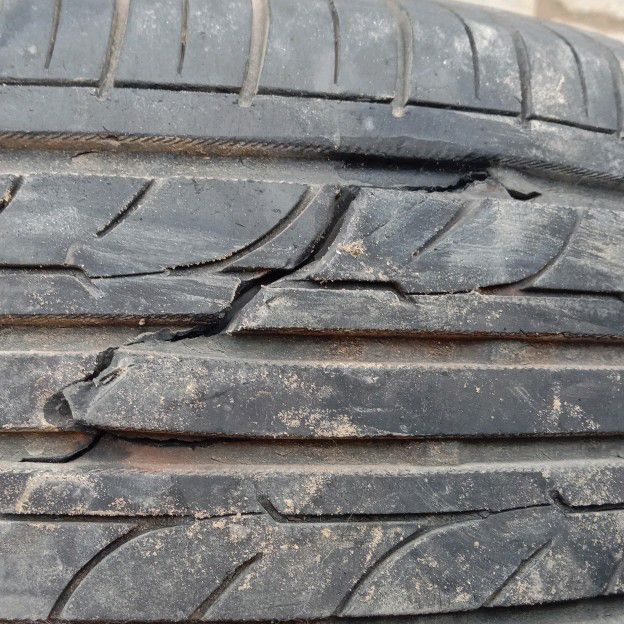tr: (40, 160, 504, 412)
